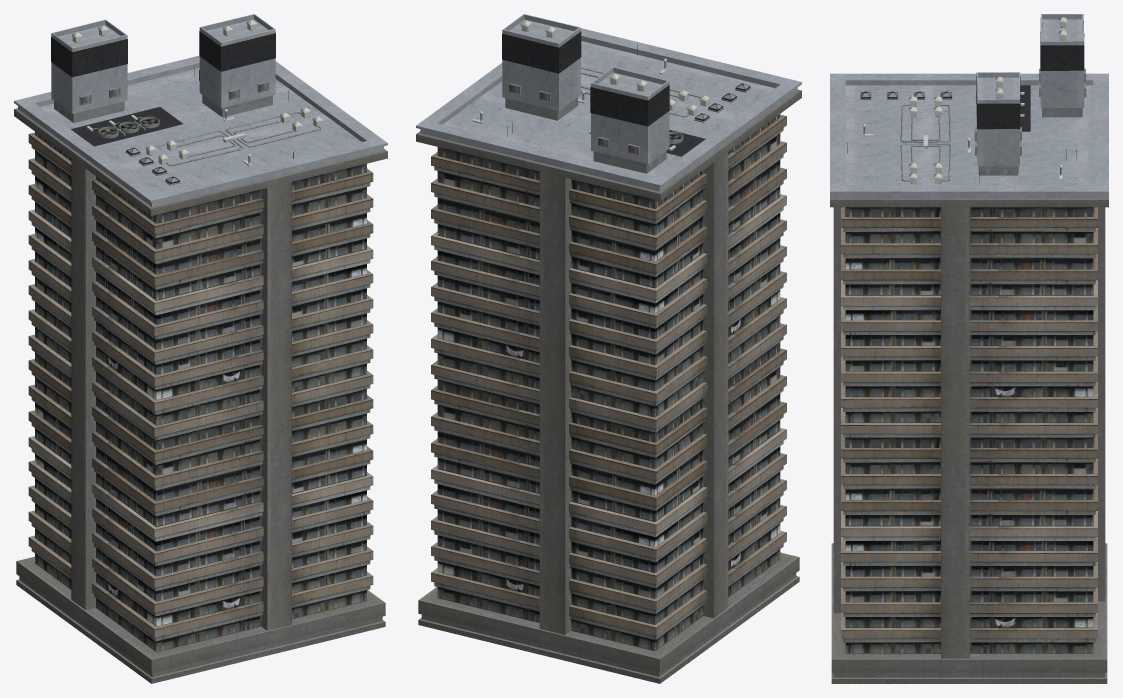
Rendered from u2SWBuild3.gltf.
3 views of the same model, side by side, from view 1: azimuth 30°, elevation 25°; view 2: azimuth 150°, elevation 25°; view 3: azimuth 270°, elevation 25° (orthographic). The views are drawn at different scales.
Visible parts, largest first — view 1: u2SWBuild3; view 2: u2SWBuild3; view 3: u2SWBuild3.
Part boxes in pixels (x1=…): u2SWBuild3: x1=14, y1=14, x2=387, y2=683; u2SWBuild3: x1=416, y1=14, x2=801, y2=683; u2SWBuild3: x1=830, y1=14, x2=1108, y2=683.
Bounding box in the file's own units: 13 × 29.31 × 13.
Materials: 11 (11 with a texture image).
